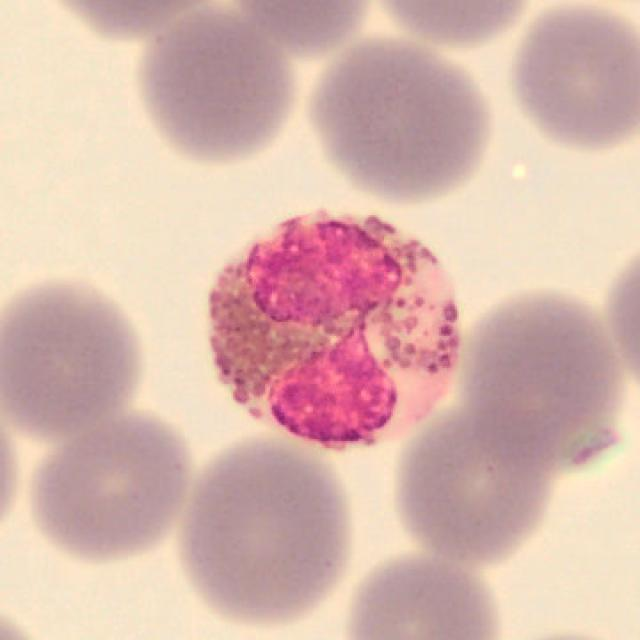Eosinofilo: (206, 210, 462, 450)
